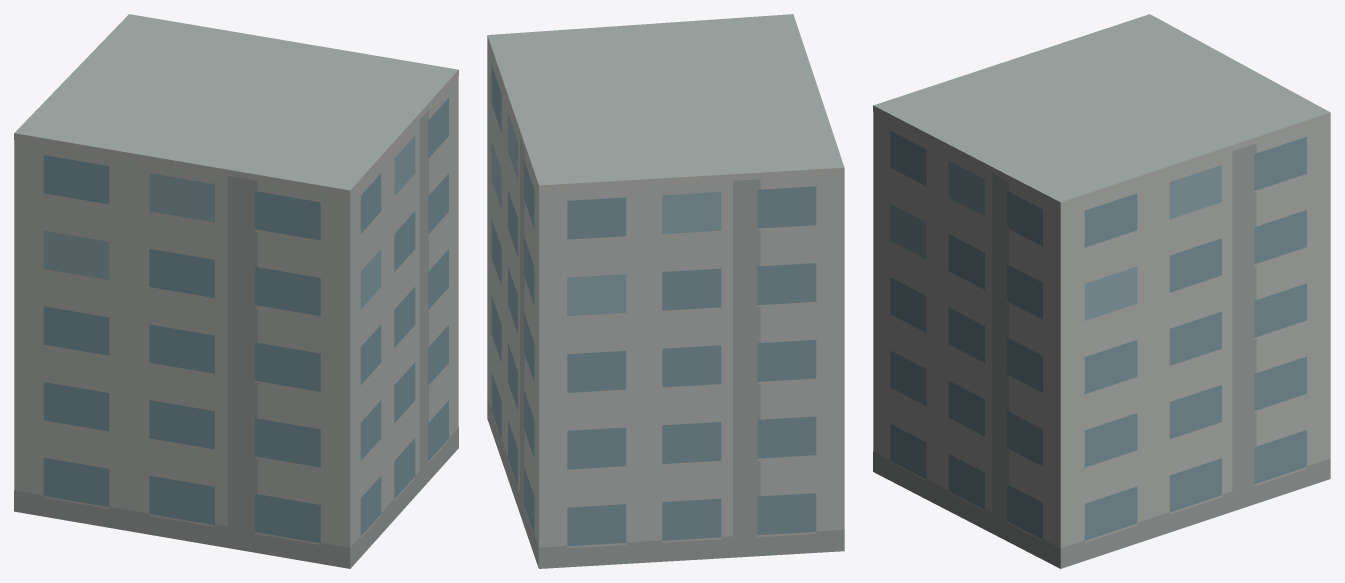
File: survey-upis-32576392.glb
The picture shows the model from 3 angles, left to right: view 1: azimuth 30°, elevation 25°; view 2: azimuth 150°, elevation 25°; view 3: azimuth 270°, elevation 25°; orthographic projection. The views are drawn at different scales.
Parts seen in each view (by area): view 1: survey-upis-32576392.tmp; view 2: survey-upis-32576392.tmp; view 3: survey-upis-32576392.tmp.
Boxes of the visible parts, x1,y1,x2,y2 form: survey-upis-32576392.tmp: (14,14,458,568); survey-upis-32576392.tmp: (487,14,844,568); survey-upis-32576392.tmp: (873,14,1330,568).
Size of the model in its own units: 15.66 by 14.2 by 16.07.
